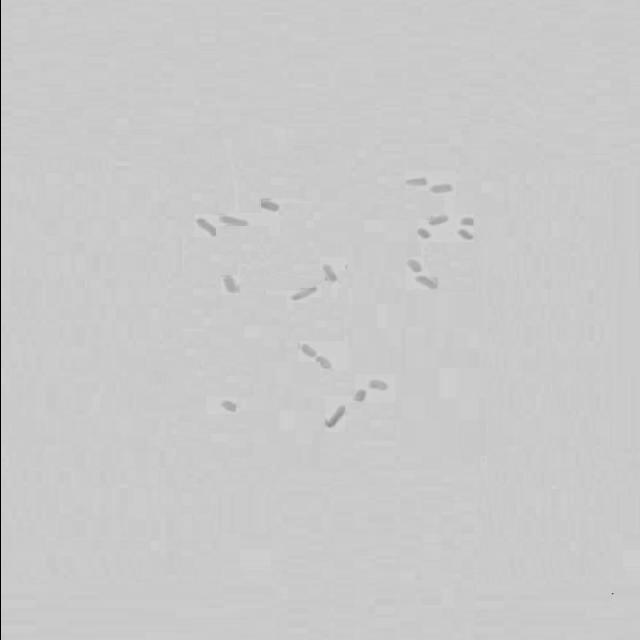E-coli: (412, 273, 439, 293), (320, 261, 340, 285), (327, 405, 345, 431), (222, 212, 250, 228), (198, 218, 220, 238), (425, 184, 461, 196), (401, 258, 428, 273), (220, 276, 242, 294), (291, 288, 319, 302), (296, 343, 319, 359), (366, 378, 394, 391), (347, 388, 369, 404), (421, 213, 448, 226), (257, 200, 281, 214), (219, 398, 241, 412), (458, 228, 476, 244), (413, 228, 433, 242), (405, 177, 425, 187), (462, 217, 480, 228), (316, 359, 334, 370)
